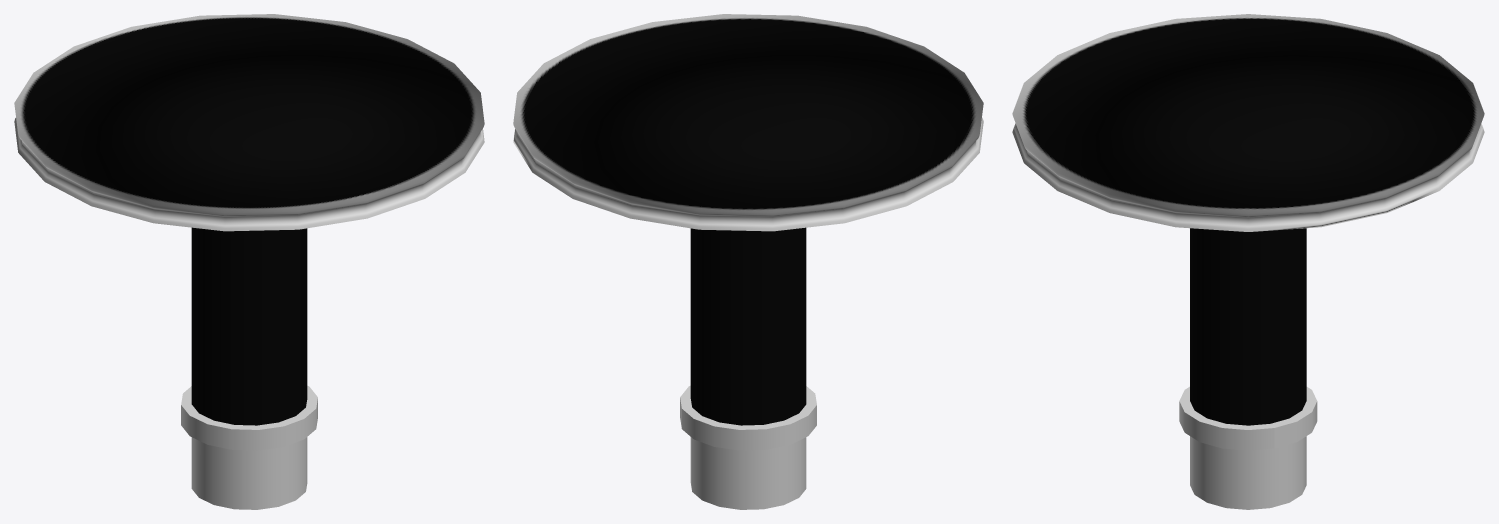
File: m_navajo_table_lod1.fbx
The picture shows the model from 3 angles, left to right: view 1: azimuth 30°, elevation 25°; view 2: azimuth 150°, elevation 25°; view 3: azimuth 270°, elevation 25°; orthographic projection.
Visible parts, largest first — view 1: polySurface8, polySurface9; view 2: polySurface8, polySurface9; view 3: polySurface8, polySurface9.
Part boxes in pixels (bbox=[...]): polySurface8: bbox=[14, 14, 484, 231]; polySurface9: bbox=[181, 227, 317, 509]; polySurface8: bbox=[513, 14, 983, 231]; polySurface9: bbox=[680, 227, 816, 509]; polySurface8: bbox=[1012, 14, 1484, 231]; polySurface9: bbox=[1179, 228, 1317, 509].
Bounding box in the file's own units: 8.13 × 7.06 × 8.13.
